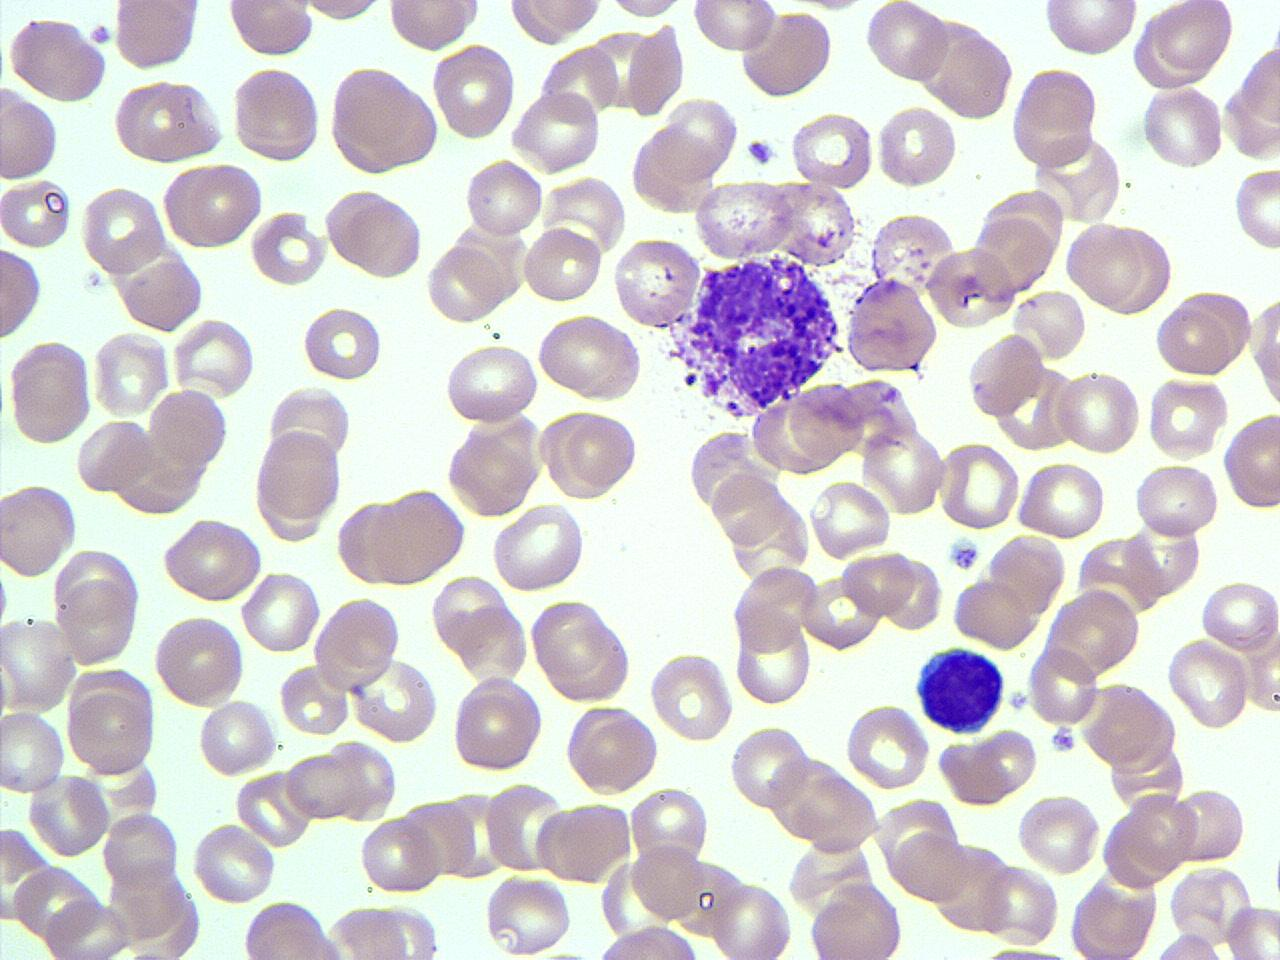Platelets: (946, 536, 980, 574), (744, 136, 778, 166), (1048, 723, 1078, 756), (87, 21, 116, 47), (1269, 842, 1280, 905), (1006, 688, 1030, 712), (1269, 20, 1280, 52), (683, 369, 699, 386)
RBC: (327, 64, 442, 174), (364, 486, 468, 585), (535, 312, 644, 403), (112, 77, 226, 164), (159, 160, 266, 251), (4, 338, 93, 446), (160, 515, 266, 605), (449, 674, 544, 774), (844, 277, 940, 375), (489, 500, 588, 595), (4, 14, 108, 104), (1044, 585, 1142, 680), (1008, 69, 1099, 170), (231, 65, 323, 164), (153, 612, 245, 709), (430, 41, 516, 144), (611, 234, 702, 330), (446, 424, 539, 516), (738, 8, 832, 99), (691, 177, 794, 260), (312, 595, 400, 692), (534, 797, 630, 885), (648, 647, 735, 744), (253, 428, 342, 522), (1165, 636, 1253, 730), (550, 408, 641, 498), (1014, 457, 1108, 544), (928, 26, 1014, 121), (443, 340, 538, 425), (937, 438, 1022, 533), (734, 608, 814, 708), (80, 183, 166, 276), (862, 422, 947, 516), (0, 613, 79, 714), (483, 779, 566, 875), (0, 479, 78, 581), (1067, 870, 1155, 960), (348, 654, 438, 742), (544, 614, 632, 704), (844, 701, 932, 791), (482, 872, 574, 958), (808, 881, 908, 960), (509, 87, 600, 173), (66, 688, 154, 776), (1015, 789, 1103, 877), (926, 244, 1016, 330), (239, 566, 322, 658), (1138, 83, 1224, 171), (868, 208, 958, 292), (1054, 368, 1140, 454), (944, 726, 1040, 803), (728, 722, 812, 810), (28, 770, 111, 859), (875, 102, 958, 191), (357, 813, 444, 897), (118, 251, 206, 334), (1146, 373, 1228, 462), (190, 821, 275, 906), (776, 178, 858, 266), (1133, 460, 1221, 542), (92, 327, 170, 419), (1099, 222, 1175, 316), (343, 194, 426, 280), (462, 154, 545, 240), (58, 577, 136, 668), (1065, 217, 1143, 308), (170, 318, 256, 400), (863, 1, 950, 82), (530, 596, 610, 684), (790, 109, 876, 190), (574, 713, 658, 795), (628, 784, 712, 866), (806, 480, 892, 560), (984, 860, 1060, 948), (522, 224, 603, 306), (786, 379, 866, 462), (662, 94, 740, 179), (966, 332, 1042, 418), (712, 879, 793, 959), (629, 839, 706, 923), (196, 698, 276, 778), (302, 304, 382, 383), (426, 243, 504, 324), (1170, 783, 1248, 863), (1152, 302, 1234, 378), (1026, 644, 1102, 726), (249, 209, 327, 288), (110, 0, 198, 70), (951, 576, 1036, 648), (0, 706, 68, 796), (74, 417, 153, 494), (541, 42, 619, 119), (238, 904, 345, 960), (1150, 1, 1234, 72), (626, 22, 688, 118), (1011, 286, 1087, 363), (1199, 578, 1277, 651), (1222, 410, 1280, 508), (1042, 0, 1140, 58), (1, 173, 73, 250), (0, 88, 60, 180), (284, 750, 358, 824), (838, 548, 916, 618), (689, 0, 780, 55), (227, 0, 314, 57), (386, 0, 476, 53), (0, 244, 46, 342), (586, 922, 705, 958), (1232, 165, 1280, 252), (1246, 288, 1280, 409), (1239, 41, 1279, 136), (1224, 900, 1280, 960), (1243, 626, 1279, 716), (527, 0, 604, 34), (1144, 930, 1230, 960), (299, 0, 393, 24), (602, 0, 694, 22)
WBC: (661, 245, 845, 423), (844, 278, 940, 375), (912, 642, 1010, 737)
